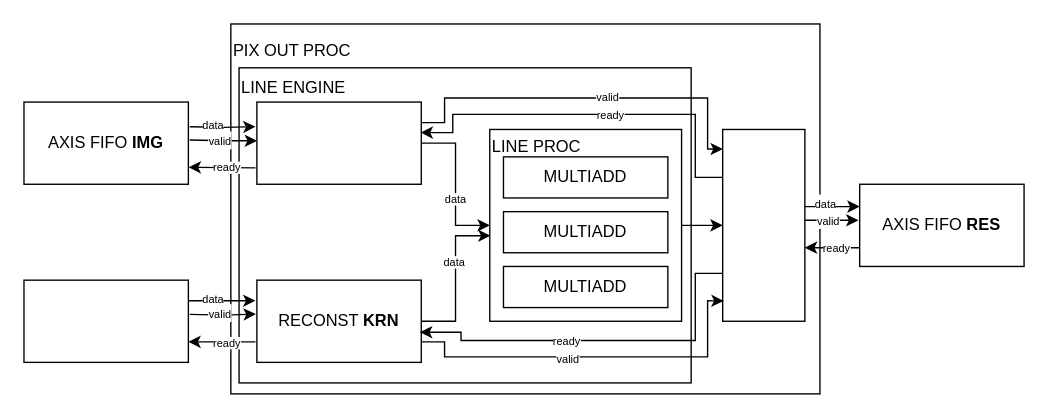
Some shapes in this 1048 by 418 pixel diagram are drawn without their labels. Each missing label, with the centre of its shape:
"ADD 3 CLK" belongs at point 763,224.
"AXIS FIFO KRN" belongs at point 105,320.
"RECONST IMG" belongs at point 338,142.
